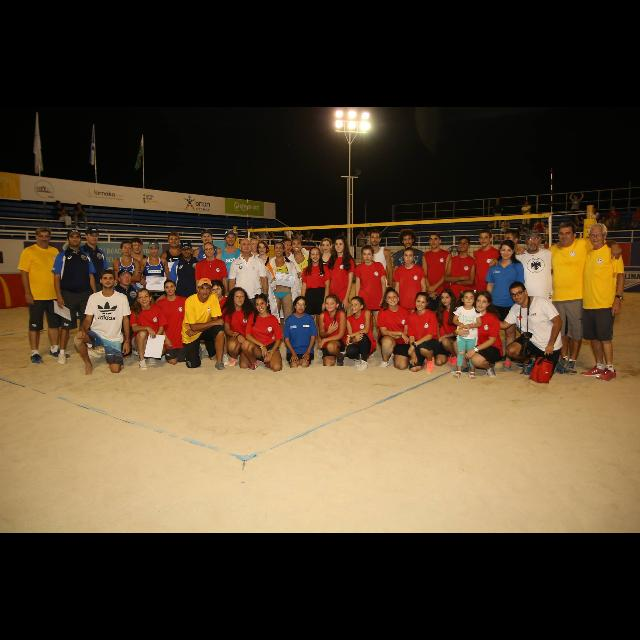head: (558, 221, 578, 247), (509, 282, 529, 306), (590, 224, 608, 246), (498, 240, 516, 260), (197, 278, 213, 300), (526, 230, 542, 252), (67, 228, 83, 248), (254, 295, 270, 315), (414, 292, 430, 312), (475, 292, 491, 312), (499, 240, 515, 260), (35, 228, 51, 246), (100, 270, 116, 288), (136, 289, 152, 307), (324, 295, 340, 313), (461, 290, 477, 308), (384, 290, 400, 306), (118, 268, 132, 286), (401, 231, 415, 249), (479, 229, 493, 247), (85, 228, 99, 245), (210, 280, 223, 298), (163, 280, 177, 296), (239, 238, 253, 254), (368, 230, 382, 246), (350, 298, 364, 314), (428, 232, 442, 248), (232, 288, 244, 306), (294, 296, 306, 314), (402, 247, 414, 265), (441, 290, 454, 306), (131, 238, 143, 255), (120, 242, 134, 256), (148, 241, 160, 257), (168, 232, 180, 248), (180, 242, 192, 258), (204, 242, 216, 258), (274, 241, 286, 257), (334, 237, 346, 253), (362, 248, 374, 264), (458, 236, 470, 252), (201, 231, 213, 245), (225, 232, 237, 246), (290, 238, 302, 252), (309, 248, 321, 262), (282, 238, 292, 254), (257, 242, 269, 254), (250, 238, 260, 252), (322, 239, 332, 253), (55, 200, 61, 208), (76, 203, 82, 209), (247, 226, 253, 232), (262, 224, 268, 230), (489, 221, 495, 227), (524, 201, 530, 207), (286, 226, 290, 232), (307, 230, 311, 236), (496, 198, 500, 204), (536, 218, 542, 222), (545, 222, 549, 228), (602, 216, 606, 222), (612, 206, 616, 212), (271, 230, 275, 234), (342, 232, 346, 236), (360, 232, 364, 236), (504, 218, 508, 222), (574, 196, 578, 200), (592, 208, 596, 212), (298, 230, 302, 233), (368, 232, 370, 236)
person: (514, 220, 624, 378), (488, 228, 578, 370), (572, 222, 626, 384), (483, 280, 569, 378), (17, 226, 71, 366), (51, 228, 104, 366), (72, 268, 132, 384), (488, 228, 536, 364), (480, 239, 526, 373), (94, 268, 150, 362), (70, 226, 110, 352), (228, 238, 270, 356), (450, 288, 504, 379), (165, 240, 211, 346), (391, 229, 431, 345), (322, 234, 358, 358), (260, 240, 302, 344), (180, 278, 226, 370), (220, 287, 270, 371), (213, 230, 251, 340), (352, 244, 388, 360), (358, 228, 396, 336), (158, 231, 194, 341), (283, 238, 321, 342), (470, 228, 504, 344), (392, 247, 428, 355), (443, 235, 477, 349), (194, 242, 228, 352), (272, 237, 306, 345), (421, 230, 453, 344), (240, 292, 284, 374), (112, 240, 144, 352), (192, 228, 224, 340), (300, 247, 332, 359), (128, 288, 170, 372), (154, 278, 194, 366), (248, 241, 282, 341), (240, 235, 272, 341), (310, 236, 342, 342), (121, 237, 152, 343), (139, 240, 171, 342), (200, 279, 236, 367), (376, 286, 412, 372), (406, 292, 440, 376), (452, 289, 482, 381), (434, 288, 468, 369), (283, 296, 319, 370), (344, 296, 378, 374), (316, 294, 350, 368), (253, 223, 274, 261), (50, 200, 74, 230), (244, 225, 262, 261), (569, 191, 585, 229), (483, 220, 505, 246), (284, 225, 298, 261), (74, 202, 90, 230), (492, 198, 504, 232), (588, 208, 600, 242), (520, 200, 532, 233), (531, 216, 545, 244), (597, 215, 611, 243), (266, 228, 278, 260), (606, 205, 620, 232), (337, 230, 348, 260), (500, 216, 510, 246), (295, 230, 305, 258), (304, 230, 314, 258), (356, 231, 366, 259), (364, 232, 374, 258), (542, 222, 552, 244)
